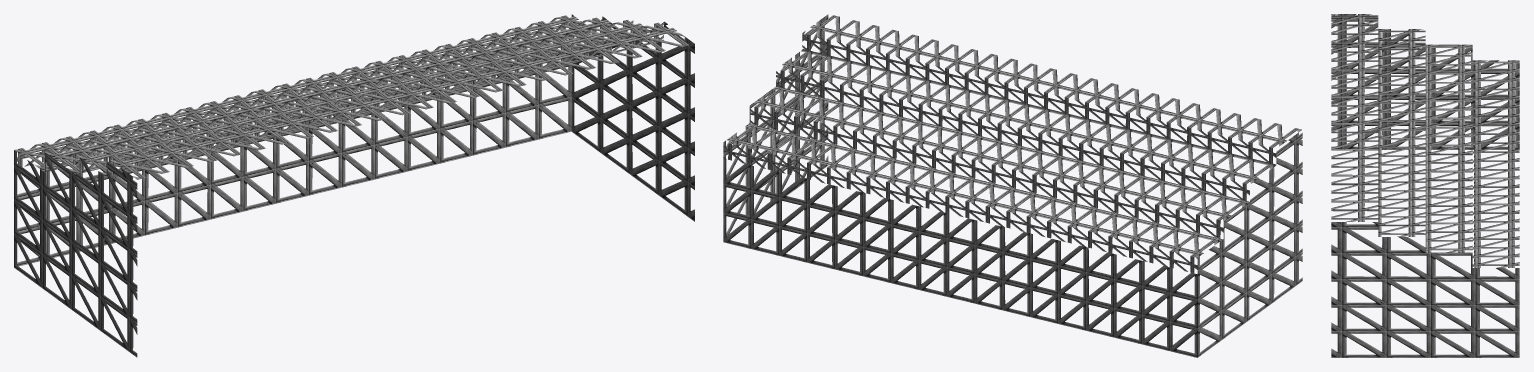
The model's file is ARC0610024.fbx.
3 views of the same model, side by side, from view 1: azimuth 30°, elevation 25°; view 2: azimuth 150°, elevation 25°; view 3: azimuth 270°, elevation 25° (orthographic). The views are drawn at different scales.
Parts seen in each view (by area): view 1: smARC0610024; view 2: smARC0610024; view 3: smARC0610024.
Part boxes in pixels (x1,y1,x2,y2): smARC0610024: [14, 14, 694, 357]; smARC0610024: [723, 14, 1302, 357]; smARC0610024: [1331, 14, 1519, 357].
Size of the model in its own units: 1507 by 460 by 578.
Materials: 1 (1 with a texture image).
